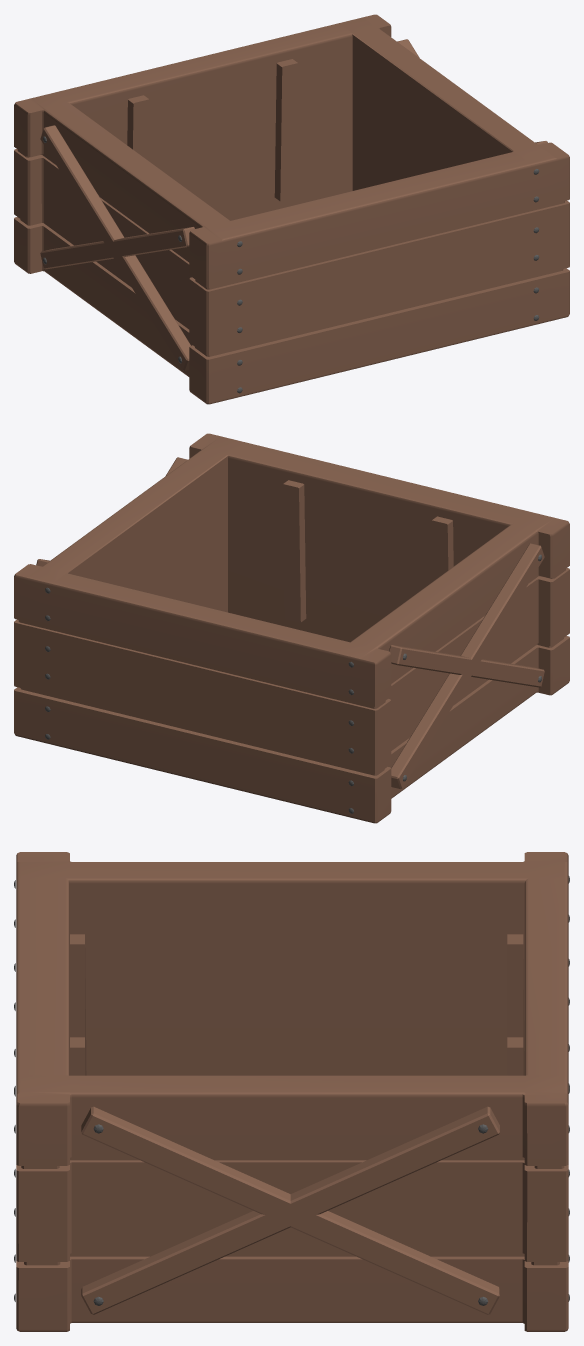
Rendered from SM_WoodBox_2.fbx.
3 renders of one model, top to bottom at view 1: azimuth 30°, elevation 25°; view 2: azimuth 150°, elevation 25°; view 3: azimuth 270°, elevation 25°, orthographic. The views are drawn at different scales.
Parts seen in each view (by area): view 1: polySurface58; view 2: polySurface58; view 3: polySurface58.
Boxes of the visible parts, <box> form: polySurface58: <box>14,14,569,404</box>; polySurface58: <box>14,433,569,823</box>; polySurface58: <box>14,852,569,1331</box>.
Bounding box in the file's own units: 0.8685 × 0.3656 × 0.7975.
